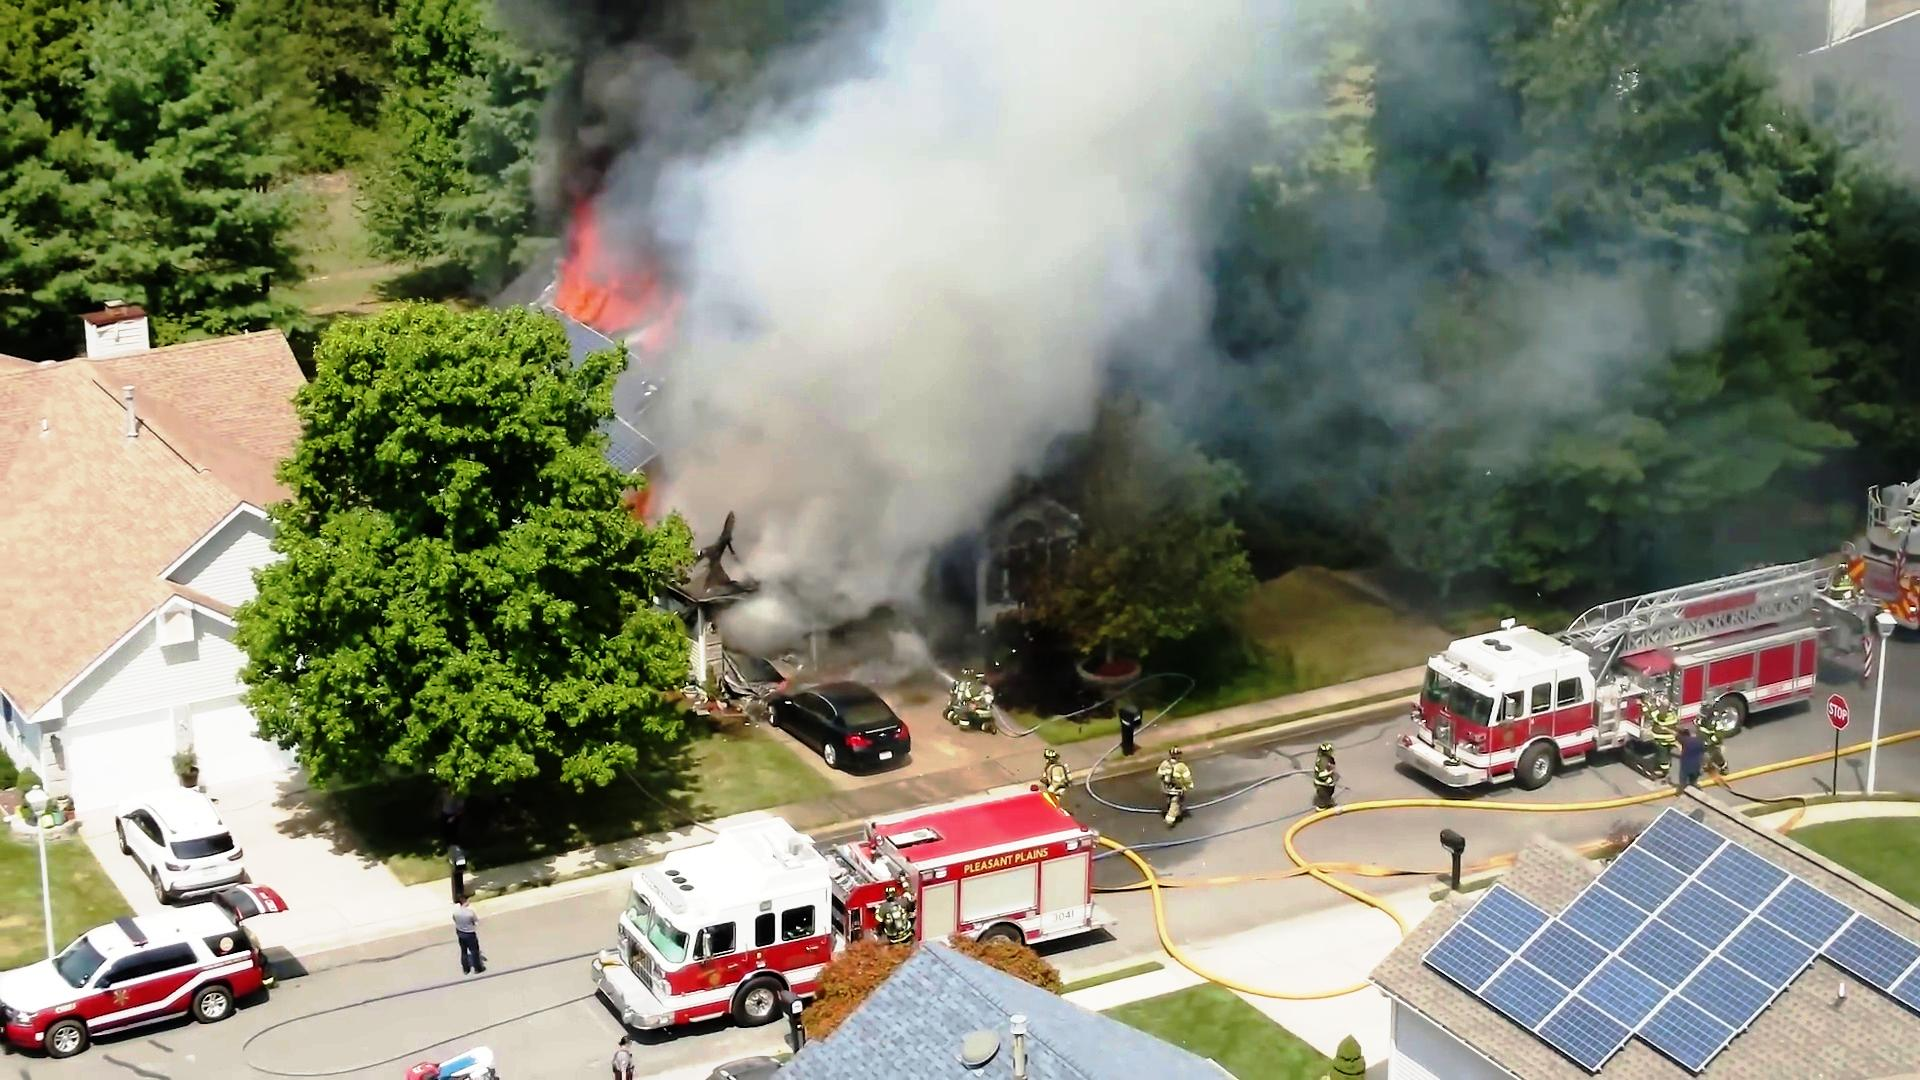fire: (538, 181, 687, 338)
smoke: (695, 173, 947, 524)
